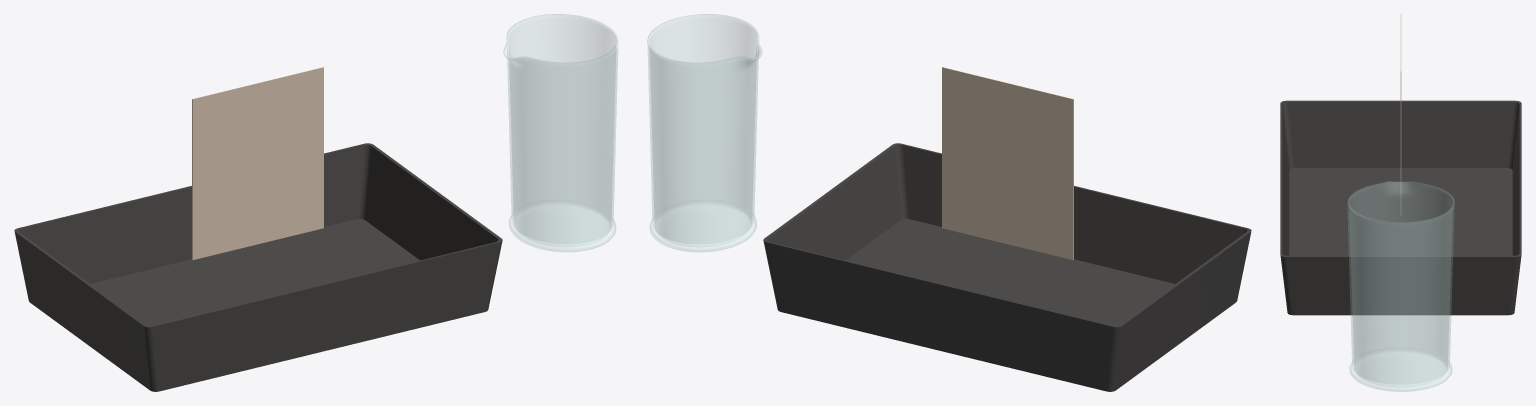
Rendered from demoanim_step04.glb.
The picture shows the model from 3 angles, left to right: view 1: azimuth 30°, elevation 25°; view 2: azimuth 150°, elevation 25°; view 3: azimuth 270°, elevation 25°; orthographic projection. The views are drawn at different scales.
Visible parts, largest first — view 1: tray.002, graduatedCylinder.003, paper; view 2: tray.002, graduatedCylinder.003, paper; view 3: tray.002, graduatedCylinder.003, paper.
Part boxes in pixels (x1,y1,x2,y2): tray.002: (14, 143, 502, 391); graduatedCylinder.003: (503, 14, 618, 251); paper: (192, 67, 323, 260); tray.002: (763, 143, 1251, 391); graduatedCylinder.003: (647, 14, 762, 251); paper: (942, 67, 1073, 260); tray.002: (1280, 100, 1521, 315); graduatedCylinder.003: (1347, 181, 1454, 391); paper: (1400, 14, 1401, 214).
Bounding box in the file's own units: 22.31 × 8.93 × 9.82.
